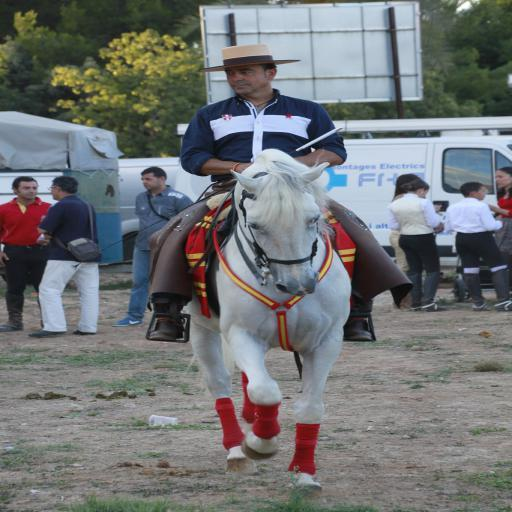horse: (177, 148, 352, 506)
